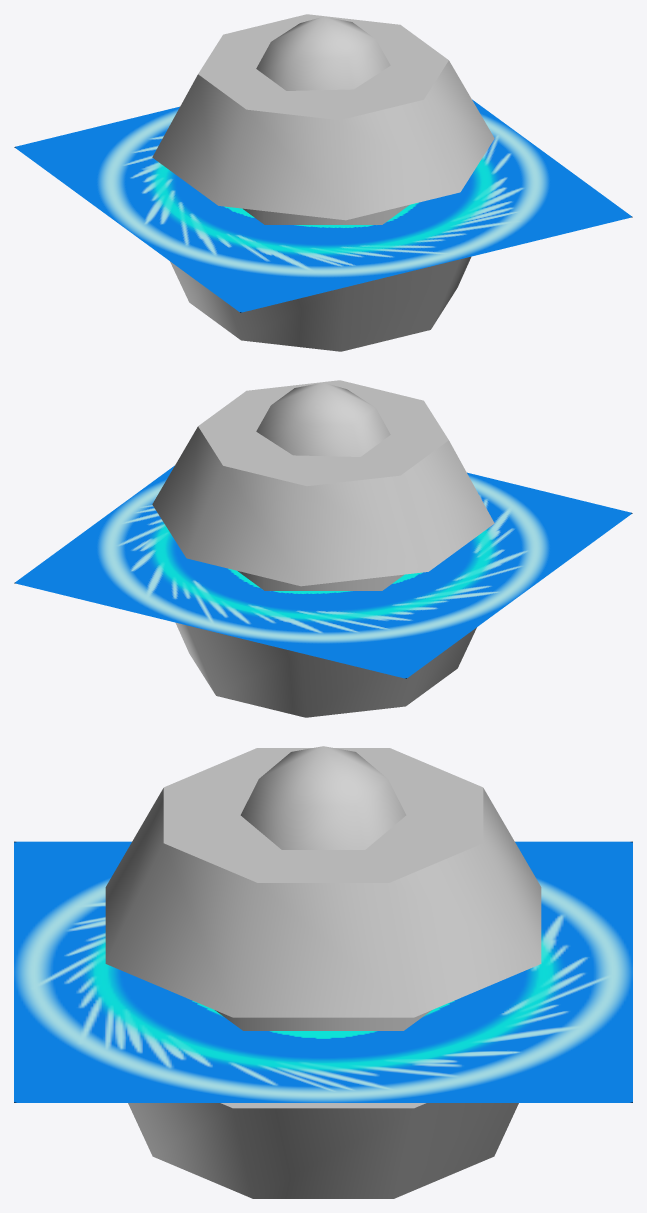
File: Spinball_old.FBX
The picture shows the model from 3 angles, top to bottom: view 1: azimuth 30°, elevation 25°; view 2: azimuth 150°, elevation 25°; view 3: azimuth 270°, elevation 25°; orthographic projection. The views are drawn at different scales.
Visible parts, largest first — view 1: 00_pinball_01_01, Plane001; view 2: 00_pinball_01_01, Plane001; view 3: 00_pinball_01_01, Plane001.
Boxes of the visible parts, <box> form: 00_pinball_01_01: <box>152,14,494,351</box>; Plane001: <box>14,99,632,312</box>; 00_pinball_01_01: <box>152,380,494,717</box>; Plane001: <box>14,465,632,678</box>; 00_pinball_01_01: <box>105,746,541,1198</box>; Plane001: <box>14,841,632,1102</box>.
Bounding box in the file's own units: 17 × 11.53 × 17.
